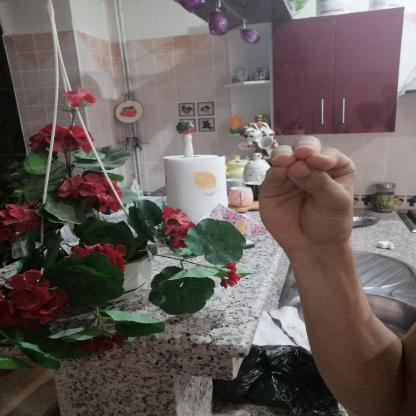HA: (246, 128, 369, 256)
